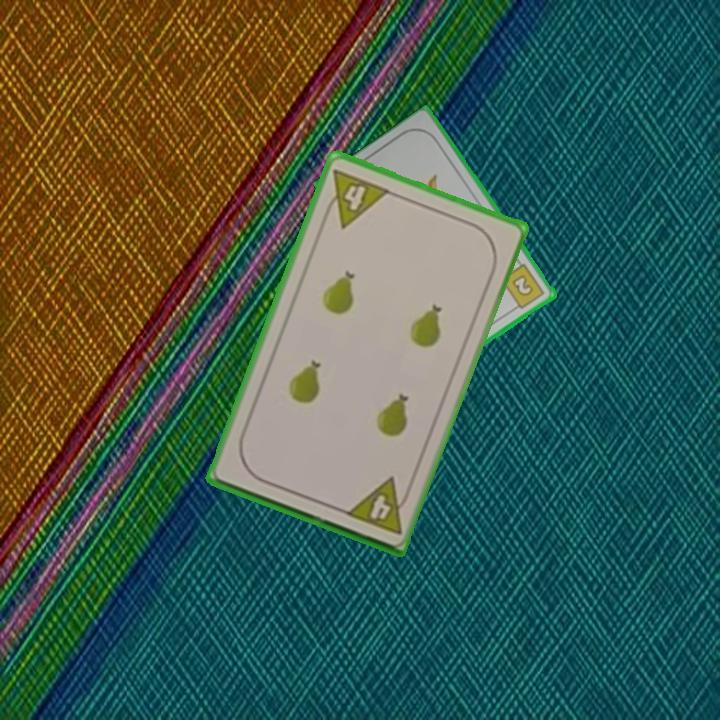2b: (498, 260, 548, 313)
4p: (318, 165, 393, 231), (341, 474, 415, 538)
